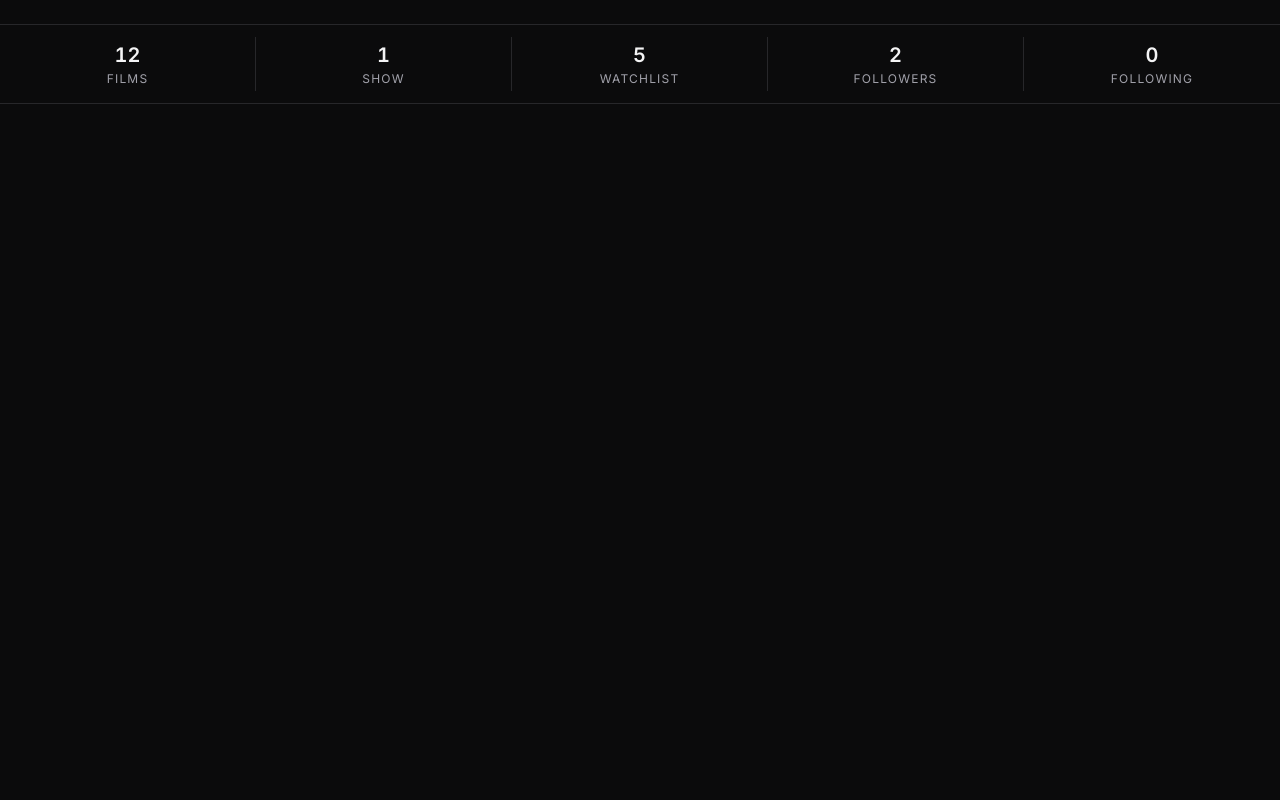
Test case: ProfileStats › shows Follow buttons for a signed-in viewer, except on their own row
Click the button "2 Followers".
click(896, 64)  # box [772,37,1019,91]
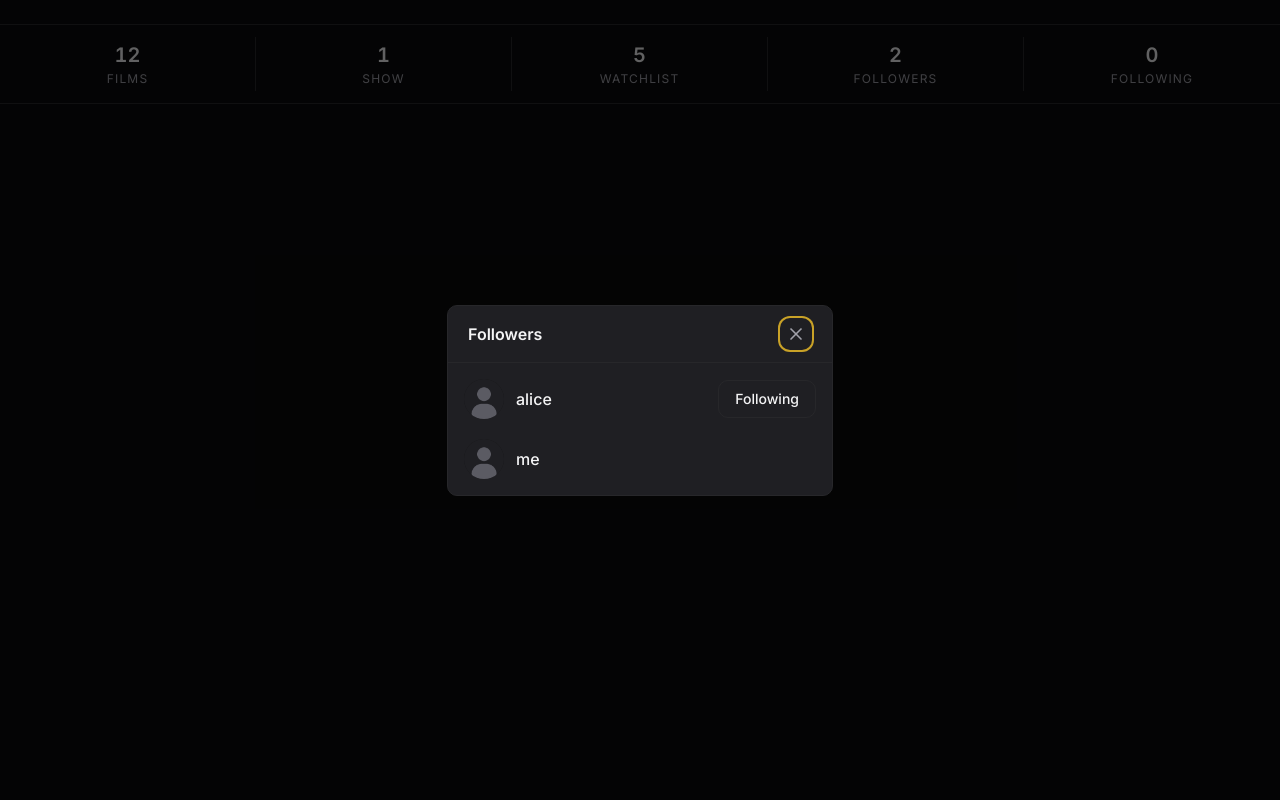
expect the button "Following" is shown: met, box [718,380,816,418]
